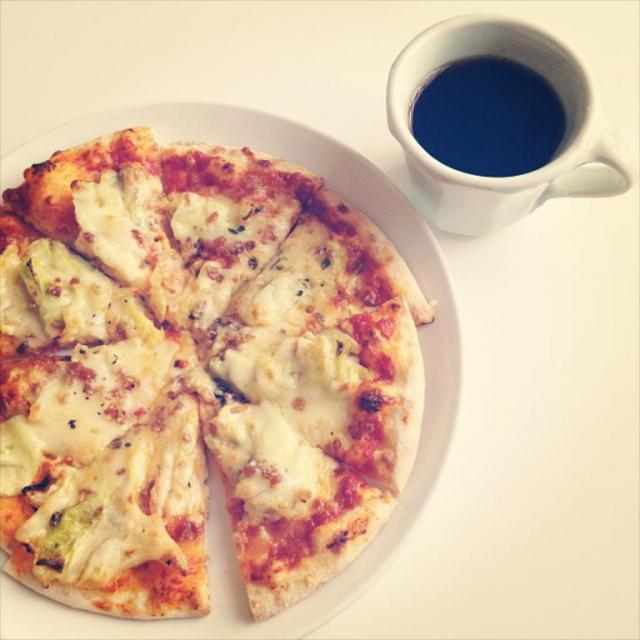Pizza: (0, 136, 429, 640)
